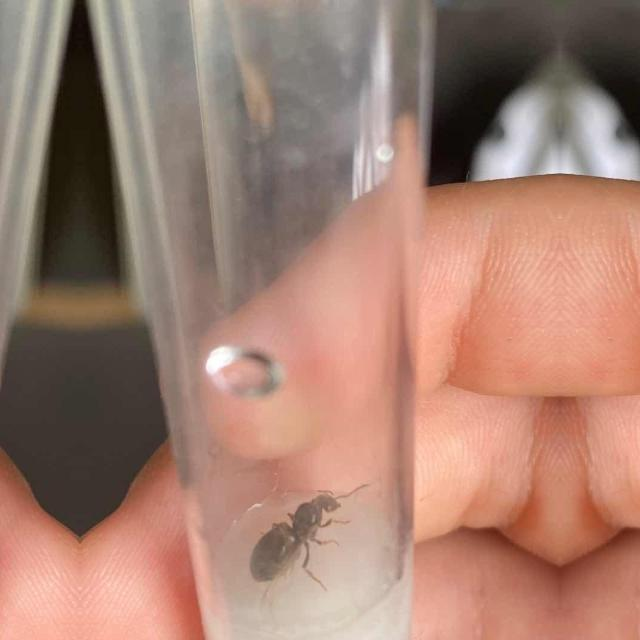Lasius: (223, 472, 371, 586)
